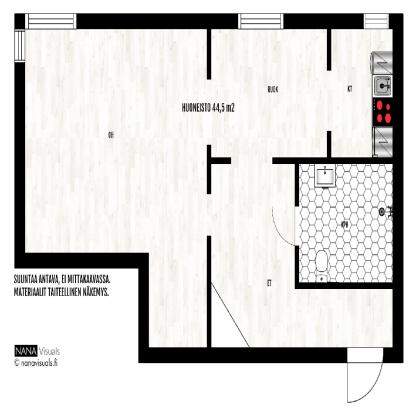door: (347, 344, 384, 405), (266, 198, 302, 250)
window: (24, 13, 76, 29), (237, 14, 283, 30), (13, 30, 26, 64), (362, 13, 388, 27)
zone: (26, 28, 206, 348), (211, 164, 392, 349), (210, 29, 327, 157), (298, 162, 392, 284), (328, 26, 393, 160)
